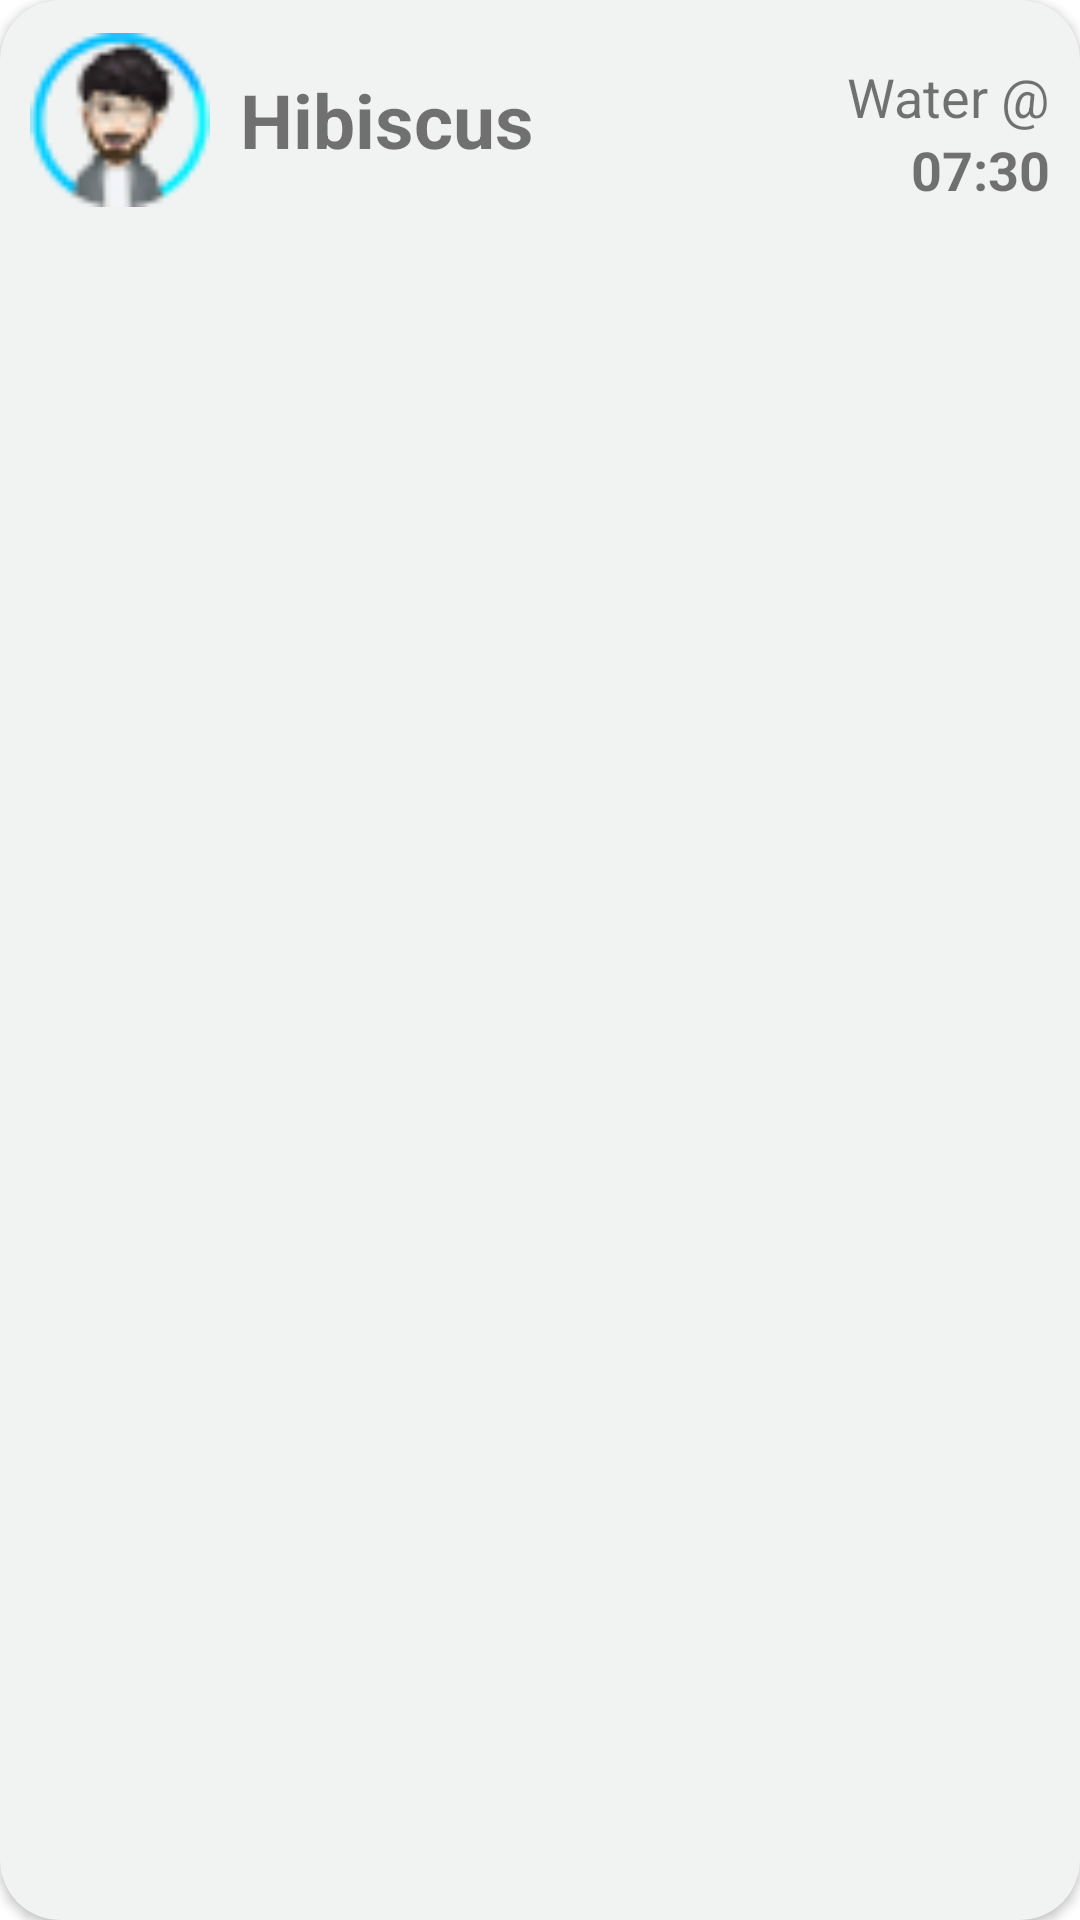

Point at icon controls on the screen. Image size 1080x1920, points as (x=x, y=y).
user: (x=120, y=120)
